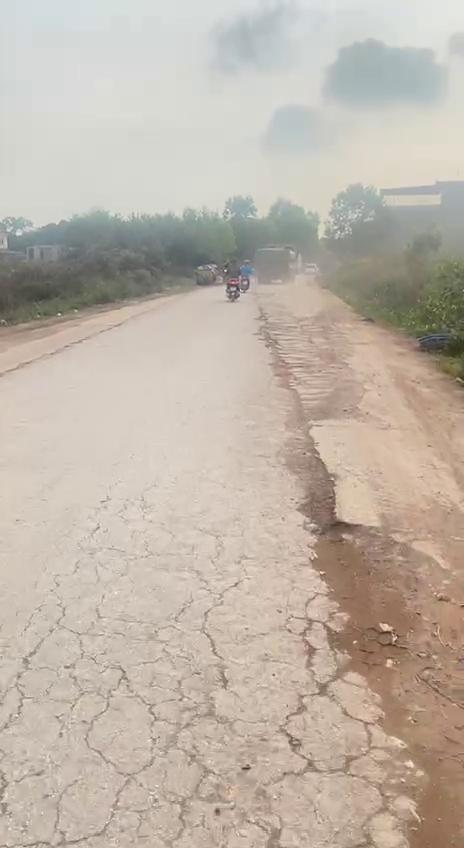pothole: (301, 507, 427, 712)
